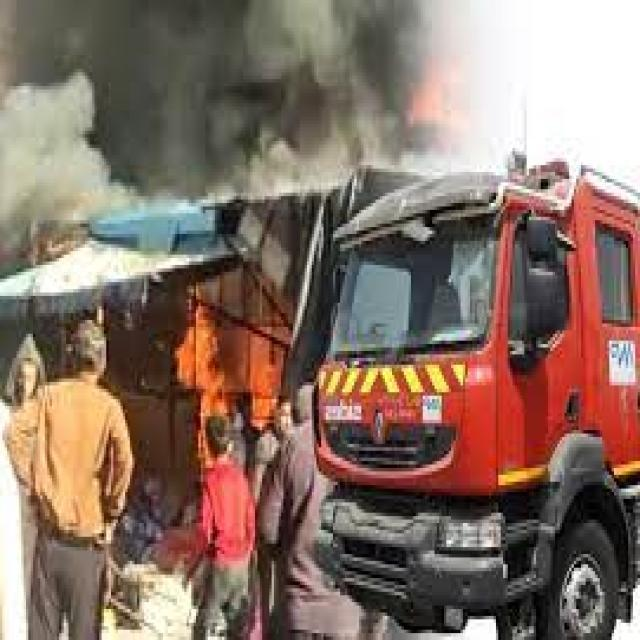emergency: (304, 124, 640, 640)
